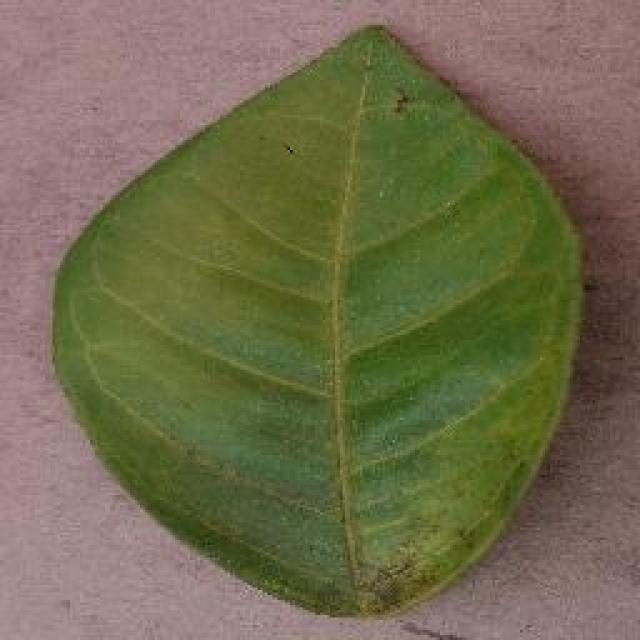Orange_Haunglongbing_Citrus_greening: (100, 111, 530, 530)
